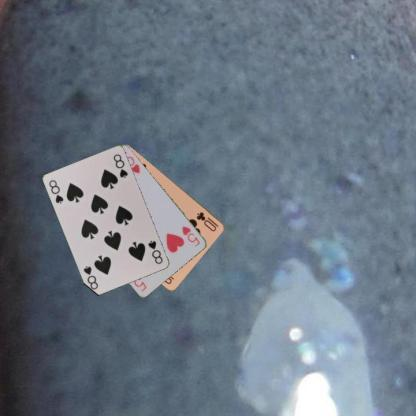10c: (194, 209, 220, 233)
5h: (180, 223, 202, 248)
8s: (46, 178, 65, 204), (146, 238, 164, 265)
